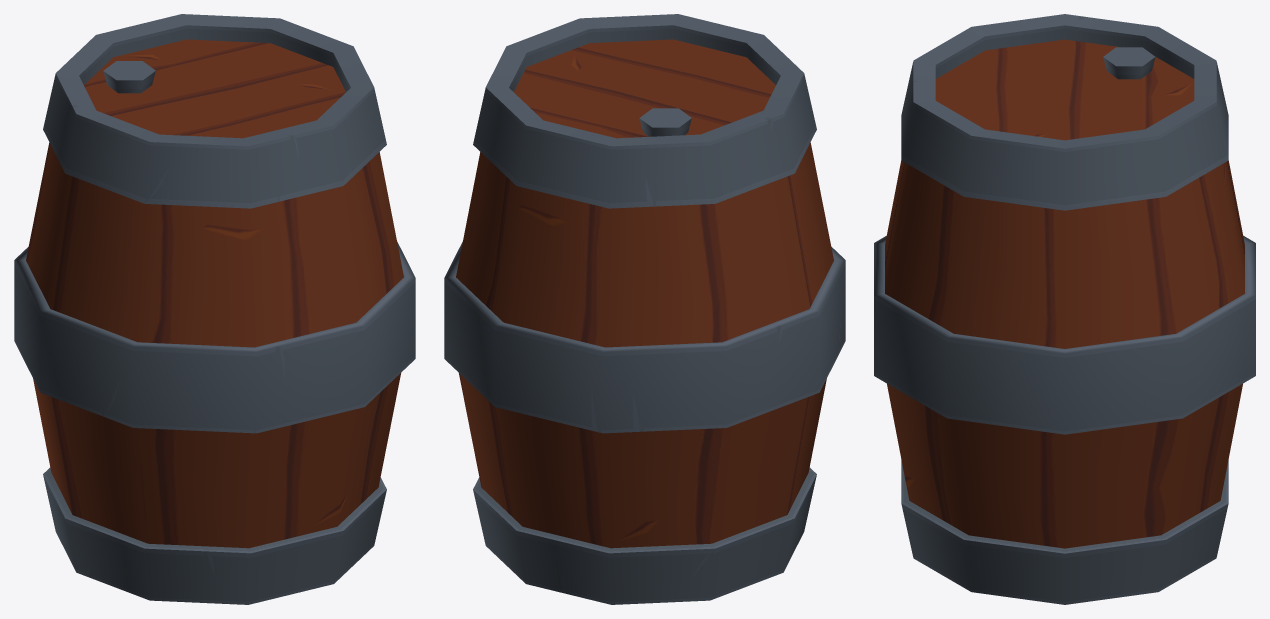
Rendered from Barrel1.fbx.
3 views of the same model, side by side, from view 1: azimuth 30°, elevation 25°; view 2: azimuth 150°, elevation 25°; view 3: azimuth 270°, elevation 25° (orthographic).
Parts seen in each view (by area): view 1: Barrel1; view 2: Barrel1; view 3: Barrel1.
Part boxes in pixels (bbox=[...]): Barrel1: bbox=[14, 14, 415, 604]; Barrel1: bbox=[444, 14, 845, 604]; Barrel1: bbox=[874, 14, 1255, 604].
Size of the model in its own units: 118 by 148 by 112.
